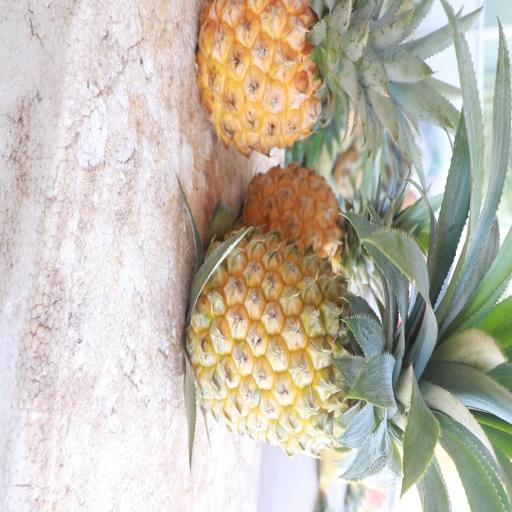Pineapple - v8 v1: (185, 223, 440, 461), (195, 0, 388, 165), (240, 159, 401, 289)
